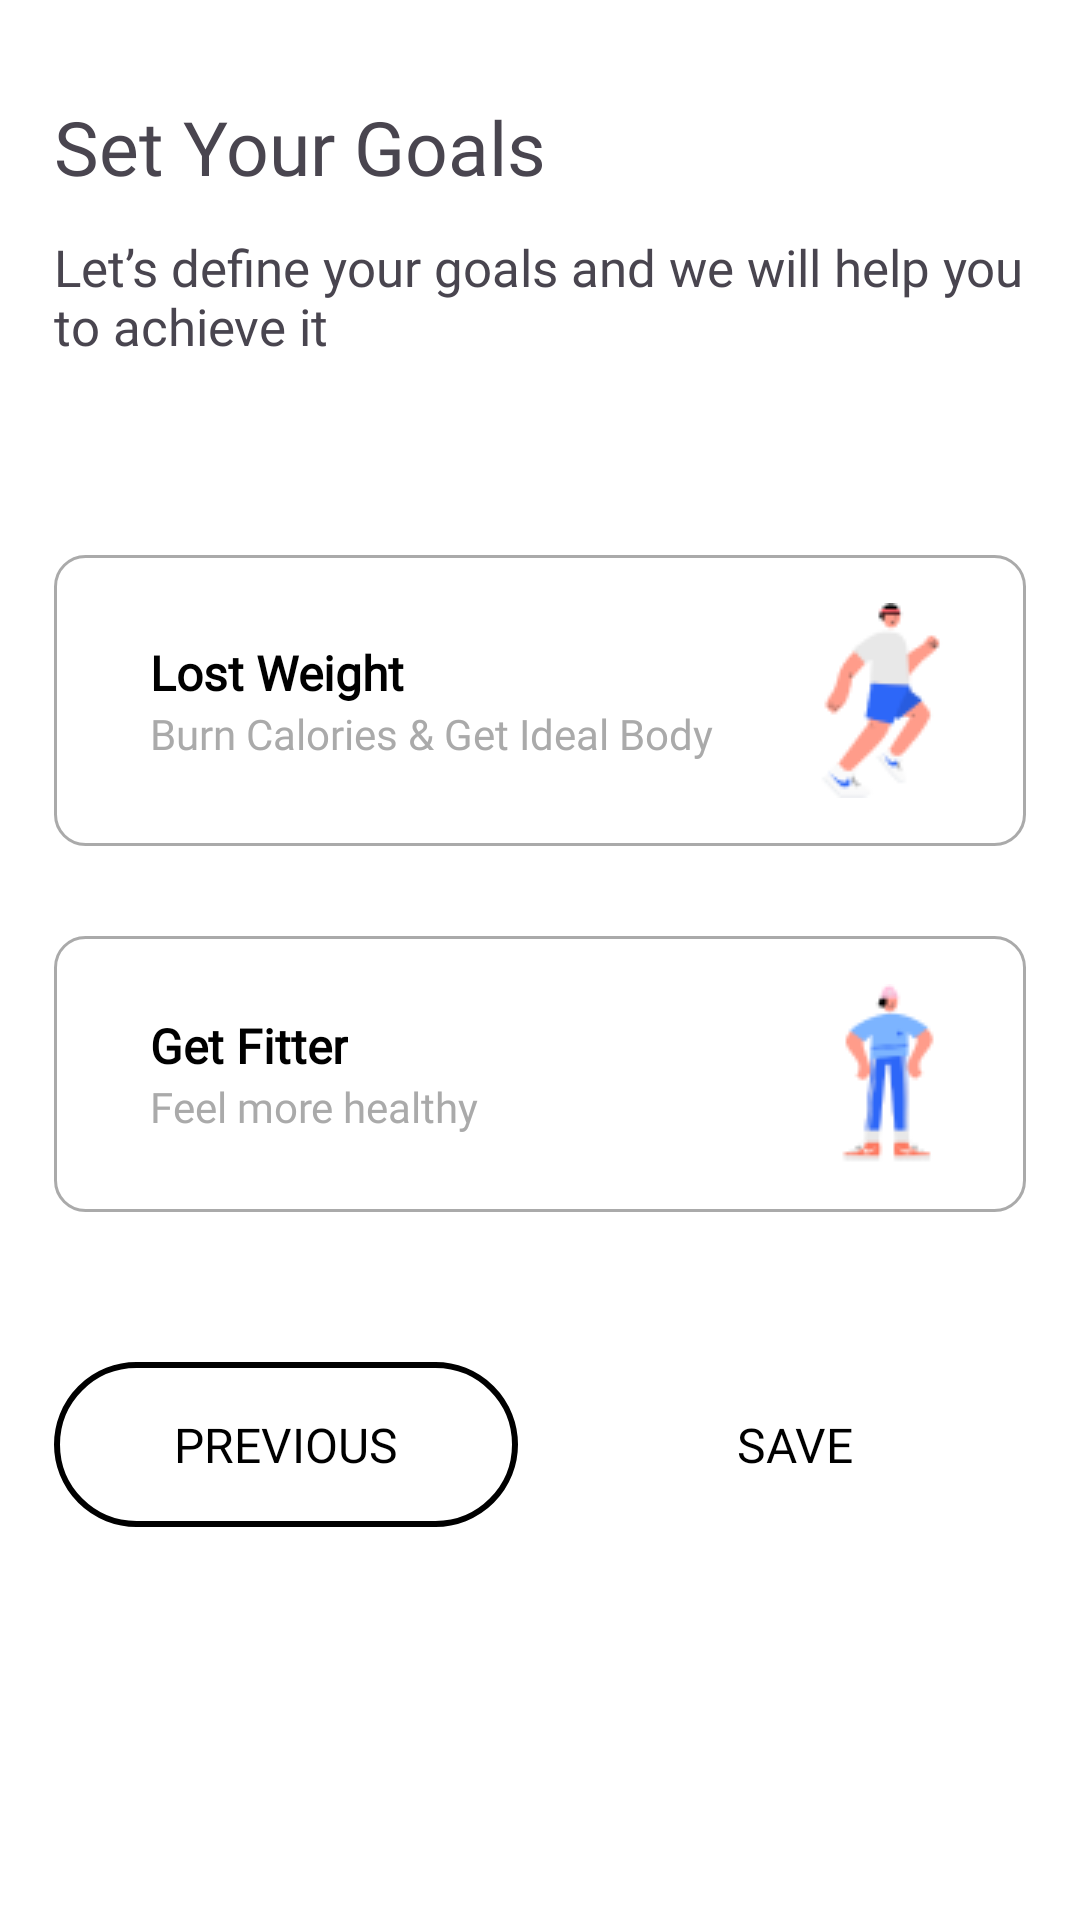

Named icons in this screenshot (1080px×1920px) and their bounding boxes, (left=x1, top=y1, right=x2, bottom=y2):
lost weight: (left=825, top=603, right=940, bottom=789)
